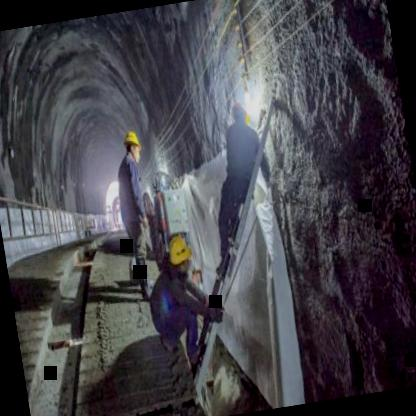helmet: (164, 230, 197, 280), (122, 125, 146, 169), (228, 97, 250, 131)
